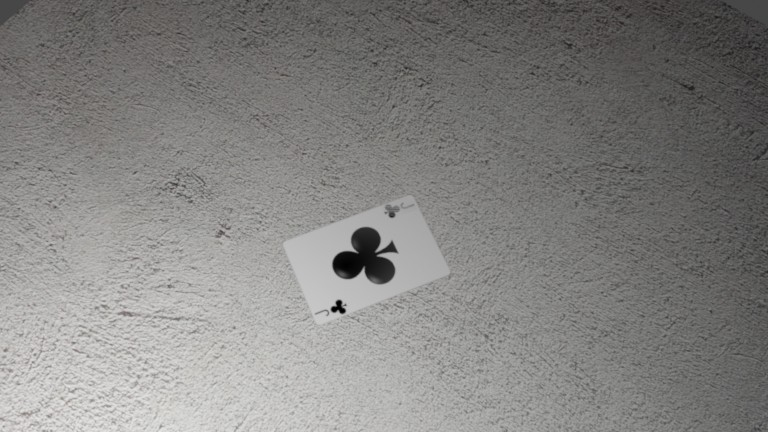jack_of_clubs: (125, 118, 140, 130), (152, 78, 167, 88)
